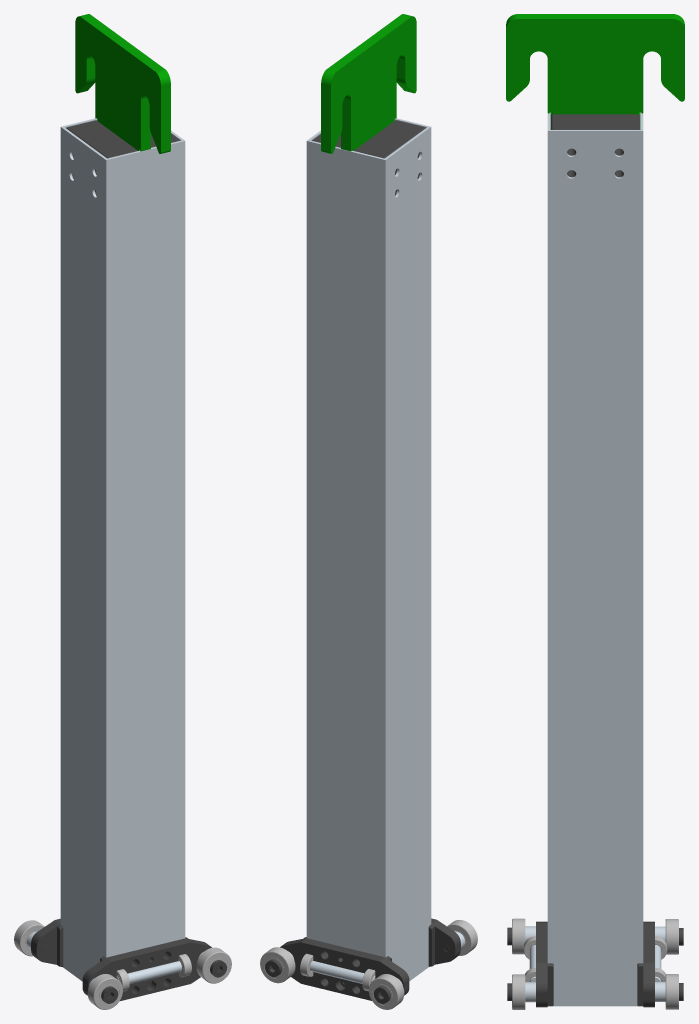
3 views of the same model, side by side, from view 1: azimuth 30°, elevation 25°; view 2: azimuth 150°, elevation 25°; view 3: azimuth 270°, elevation 25° (orthographic). The views are drawn at different scales.
Parts seen in each view (by area): view 1: Tube 2"x2"x20.25", Climb Hook, Sliding Bearing Block Plate - SLIDE-001 (×2), TTB-0038_75OD_25ID_28WD (×3), Crush Block, .25diameter_1.75inSteelDowel_SLIDE-002; view 2: Tube 2"x2"x20.25", Climb Hook, Sliding Bearing Block Plate - SLIDE-001 (×2), TTB-0038_75OD_25ID_28WD (×3), Crush Block, .25diameter_1.75inSteelDowel_SLIDE-002; view 3: Tube 2"x2"x20.25", Climb Hook, Sliding Bearing Block Plate - SLIDE-001 (×2), TTB-0038_75OD_25ID_28WD (×4), Crush Block.
Part boxes in pixels (x1,y1,x2,y2): Tube 2"x2"x20.25": (60, 118, 185, 981); Climb Hook: (75, 14, 170, 153); Sliding Bearing Block Plate - SLIDE-001 (×2): (31, 918, 211, 1000); TTB-0038_75OD_25ID_28WD (×3): (14, 920, 231, 1009); Crush Block: (66, 120, 179, 195); .25diameter_1.75inSteelDowel_SLIDE-002: (116, 961, 181, 983); Tube 2"x2"x20.25": (306, 118, 431, 981); Climb Hook: (321, 14, 416, 153); Sliding Bearing Block Plate - SLIDE-001 (×2): (280, 918, 460, 1000); TTB-0038_75OD_25ID_28WD (×3): (260, 920, 477, 1009); Crush Block: (312, 120, 425, 195); .25diameter_1.75inSteelDowel_SLIDE-002: (310, 961, 375, 983); Tube 2"x2"x20.25": (547, 112, 643, 1006); Climb Hook: (506, 14, 684, 129); Sliding Bearing Block Plate - SLIDE-001 (×2): (536, 921, 654, 1007); TTB-0038_75OD_25ID_28WD (×4): (512, 918, 678, 1009); Crush Block: (551, 114, 639, 177).
Size of the model in its own units: 0.0889 by 0.5699 by 0.0952.
